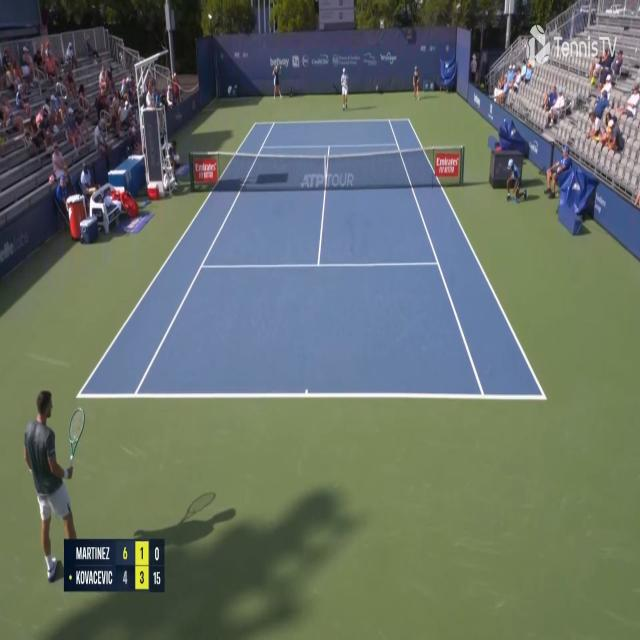tennis-player: (23, 384, 86, 573), (340, 67, 350, 113)
